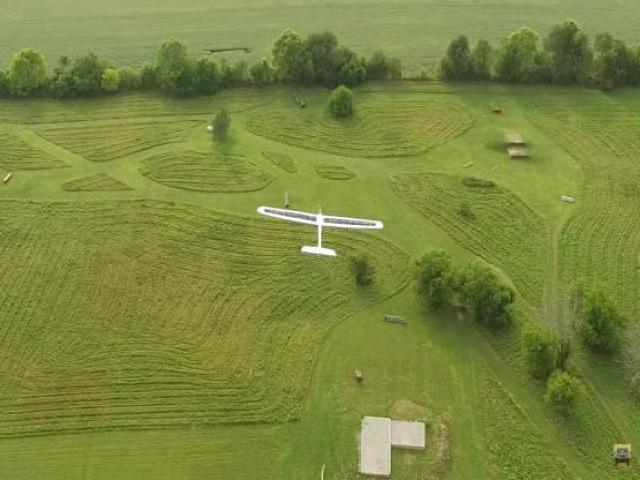uav: (254, 190, 395, 266)
